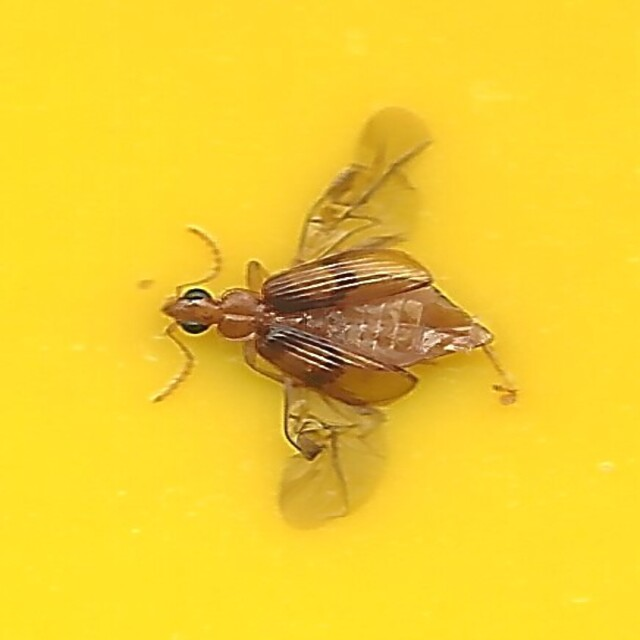Coleoptera: (147, 112, 493, 528)
